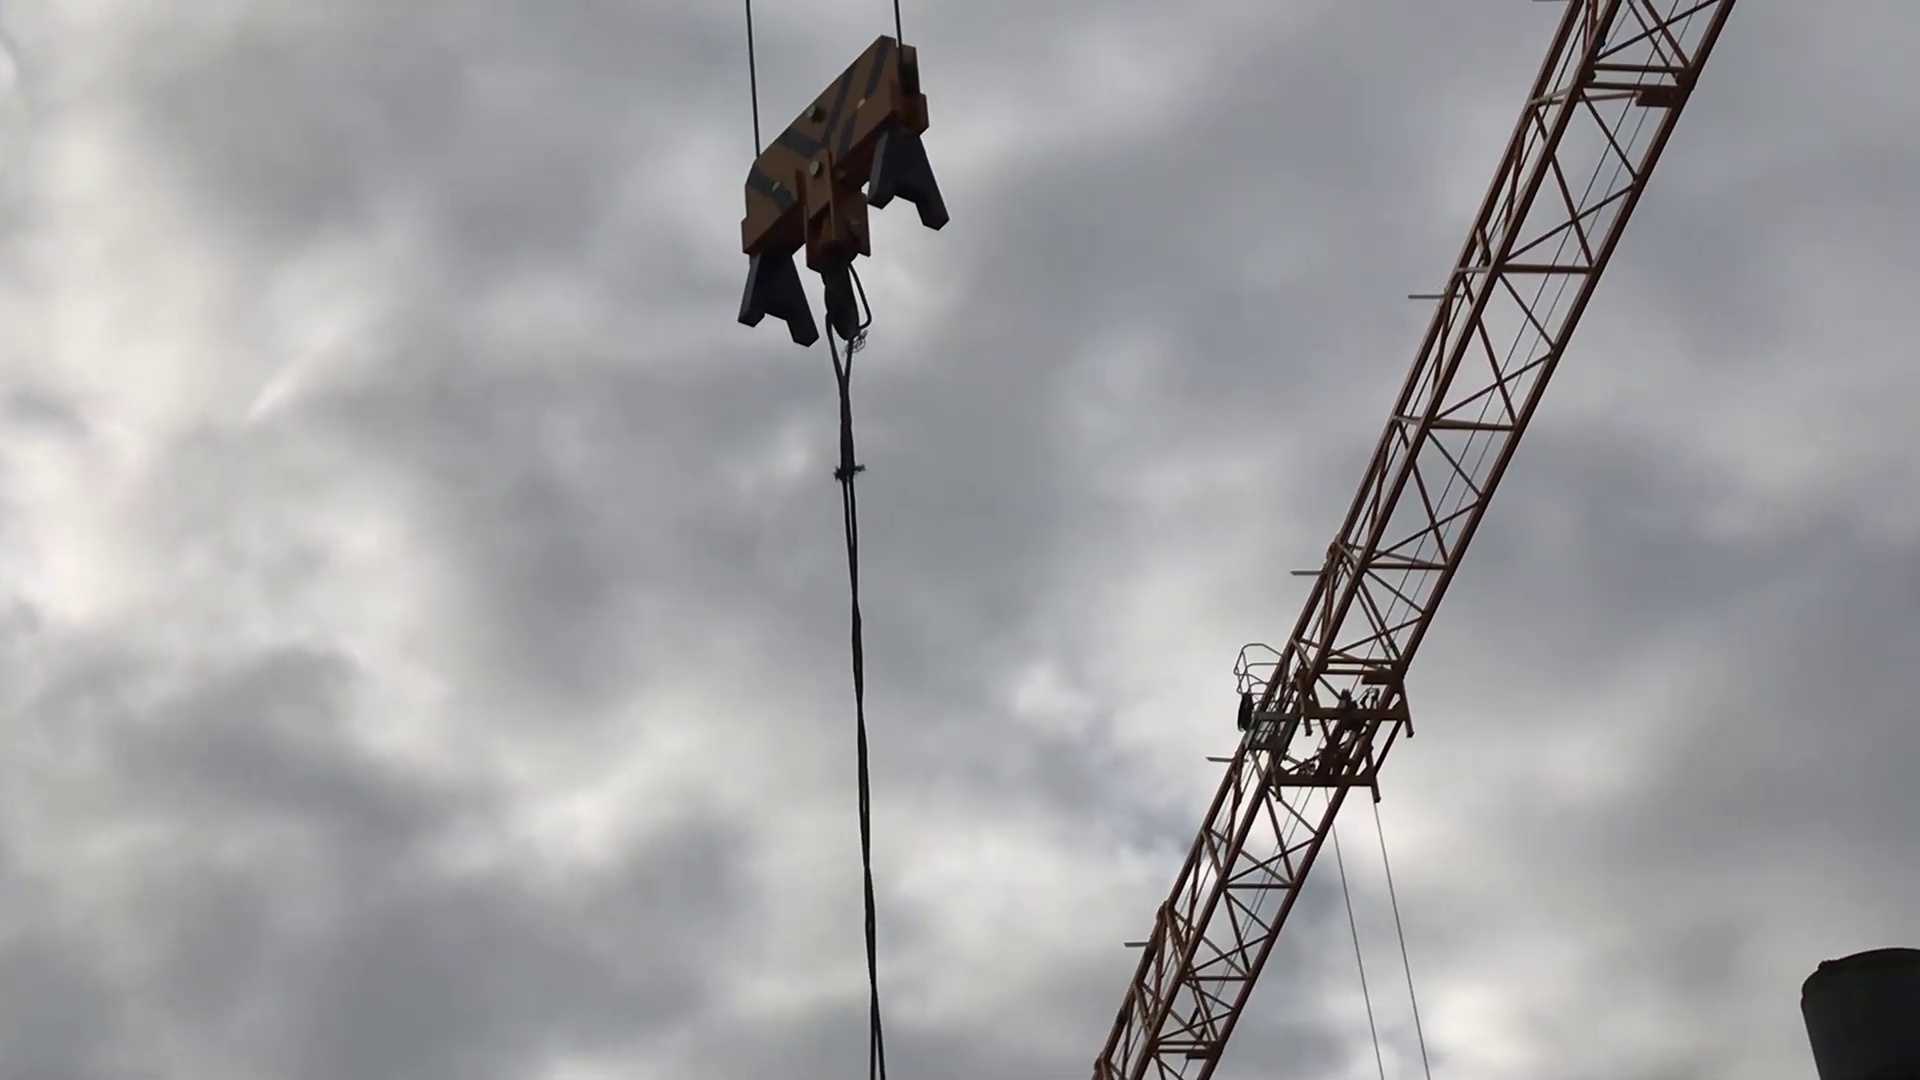hook: (732, 26, 964, 353)
